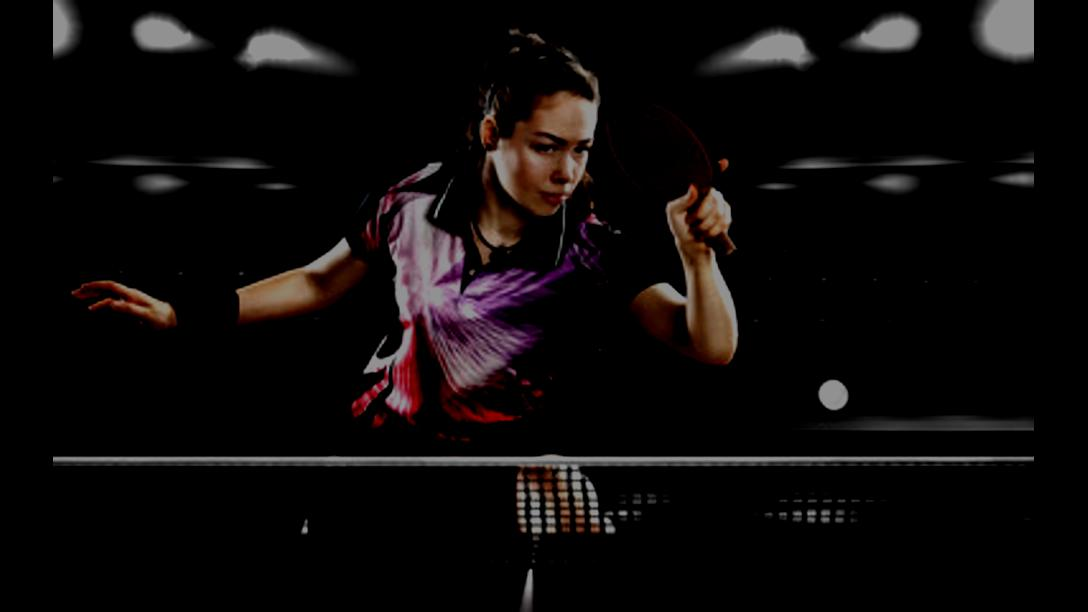Table-Tennis-Ball: (819, 380, 849, 411)
